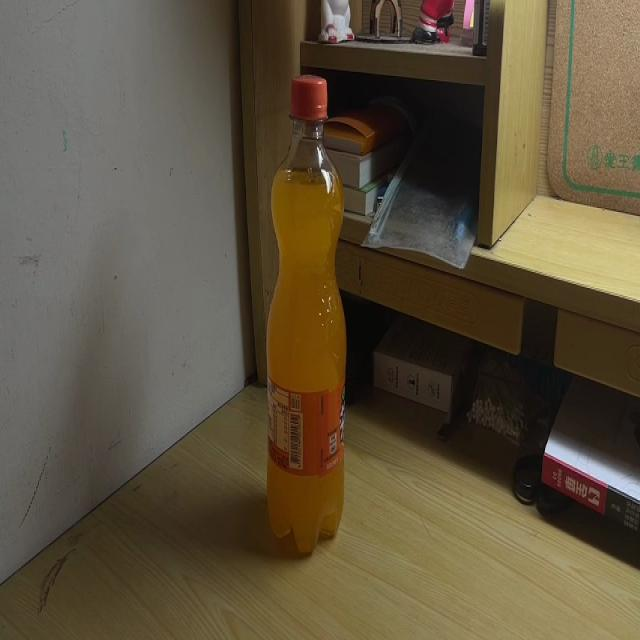Fanta: (264, 71, 348, 553)
